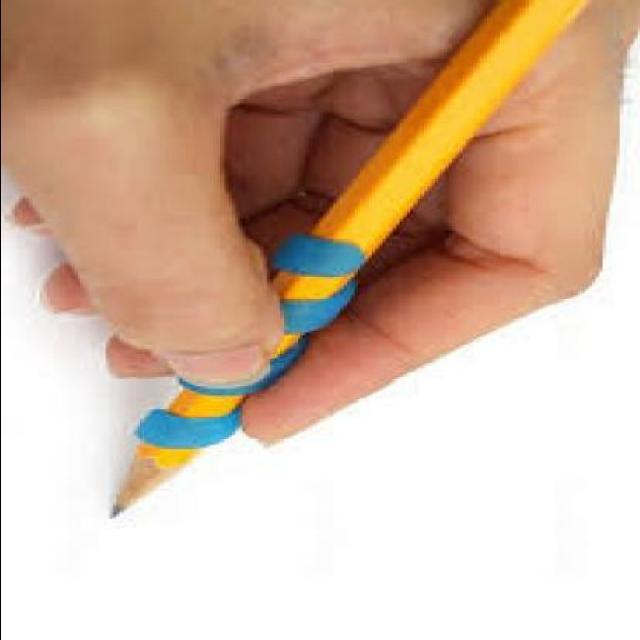Pencil: (98, 426, 200, 530)
